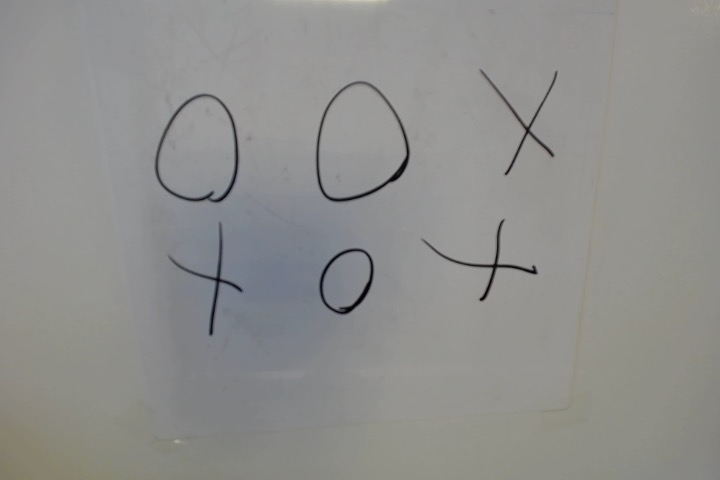0: (310, 76, 415, 207), (153, 88, 242, 208), (316, 242, 381, 325)
x: (154, 223, 248, 339), (421, 217, 538, 306), (478, 63, 557, 179)
